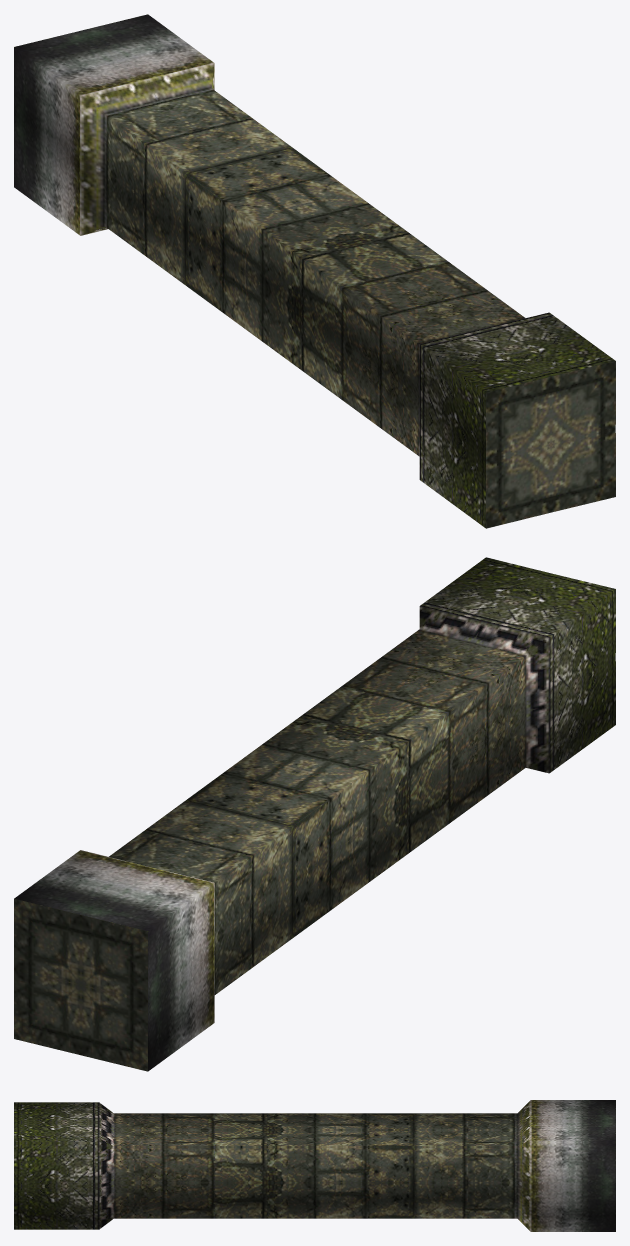
Rendered from Lab_ColumnSmall.gltf.
The picture shows the model from 3 angles, top to bottom: view 1: azimuth 30°, elevation 25°; view 2: azimuth 150°, elevation 25°; view 3: azimuth 270°, elevation 25°; orthographic projection. The views are drawn at different scales.
Parts seen in each view (by area): view 1: Lab_ColumnSmall; view 2: Lab_ColumnSmall; view 3: Lab_ColumnSmall.
Part boxes in pixels (bbox=[...]): Lab_ColumnSmall: bbox=[14, 14, 615, 528]; Lab_ColumnSmall: bbox=[14, 557, 615, 1071]; Lab_ColumnSmall: bbox=[14, 1100, 615, 1231].
Size of the model in its own units: 0.00802 by 0.00802 by 0.0488.
Materials: 1 (1 with a texture image).
